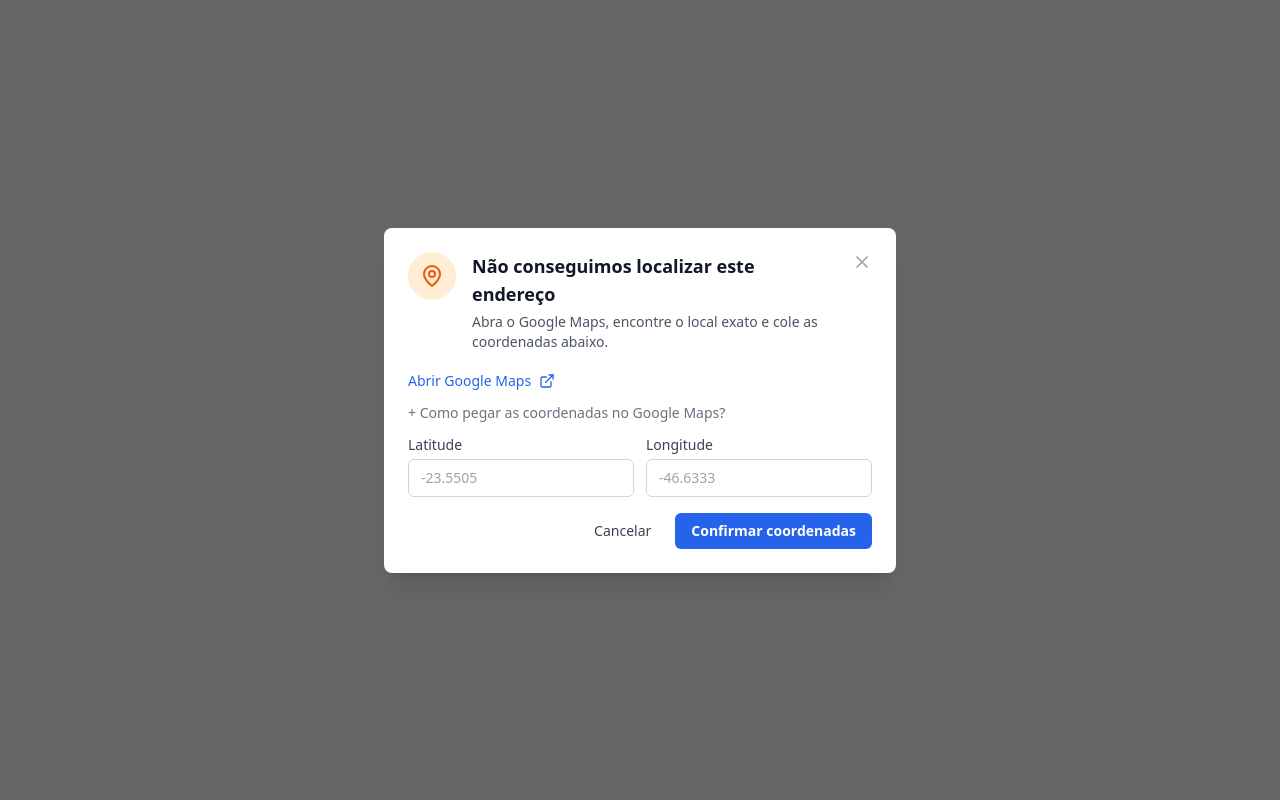
Scenario: ManualCoordinatesModal › tutorial expandido revela passos do Google Maps
This screenshot has width=1280, height=800.
Check: the text "maps.google.com" is not shown
Click the button "+ Como pegar as coordenadas no Google Maps?" at (567, 412), box x1=408 y1=402 x2=725 y2=422
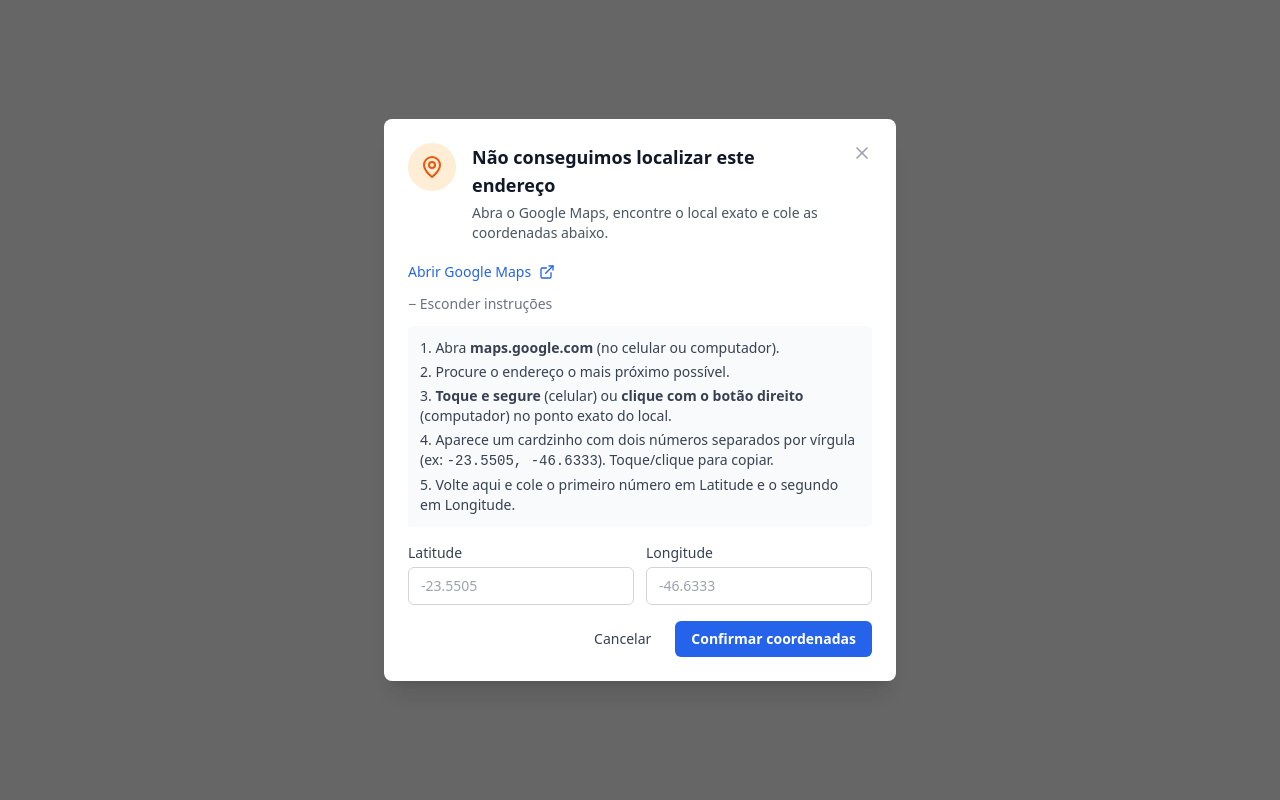
Check: the text "maps.google.com" is shown, box x1=470 y1=338 x2=593 y2=357
Check: the text "Toque e segure" is shown, box x1=435 y1=386 x2=541 y2=405
